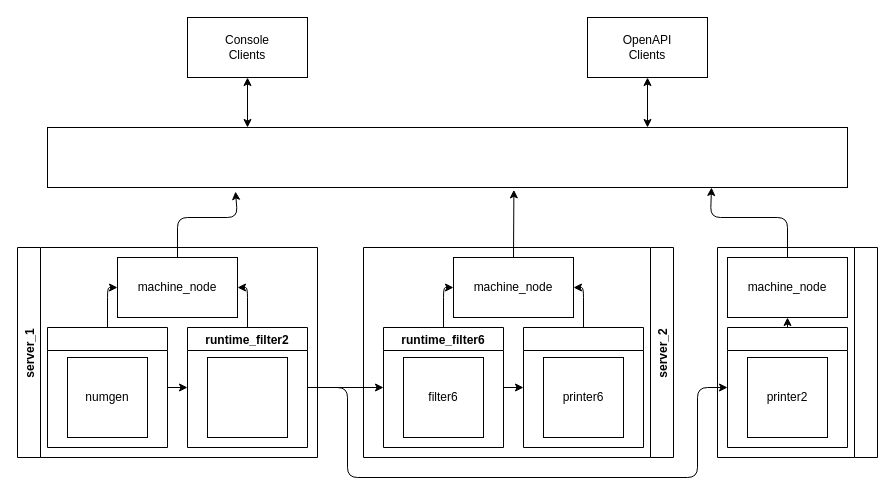
Image size: 895x503. Some labels were removed from this diagram. The box of each missing label's shape, as (x1, y1, x2, y2) in pixels:
filter2: (206, 356, 288, 438)
meta_node: (46, 126, 848, 188)
runtime_numgen: (46, 326, 168, 448)
runtime_printer2: (726, 326, 848, 448)
runtime_printer6: (522, 326, 644, 448)
server_3: (716, 246, 878, 458)
